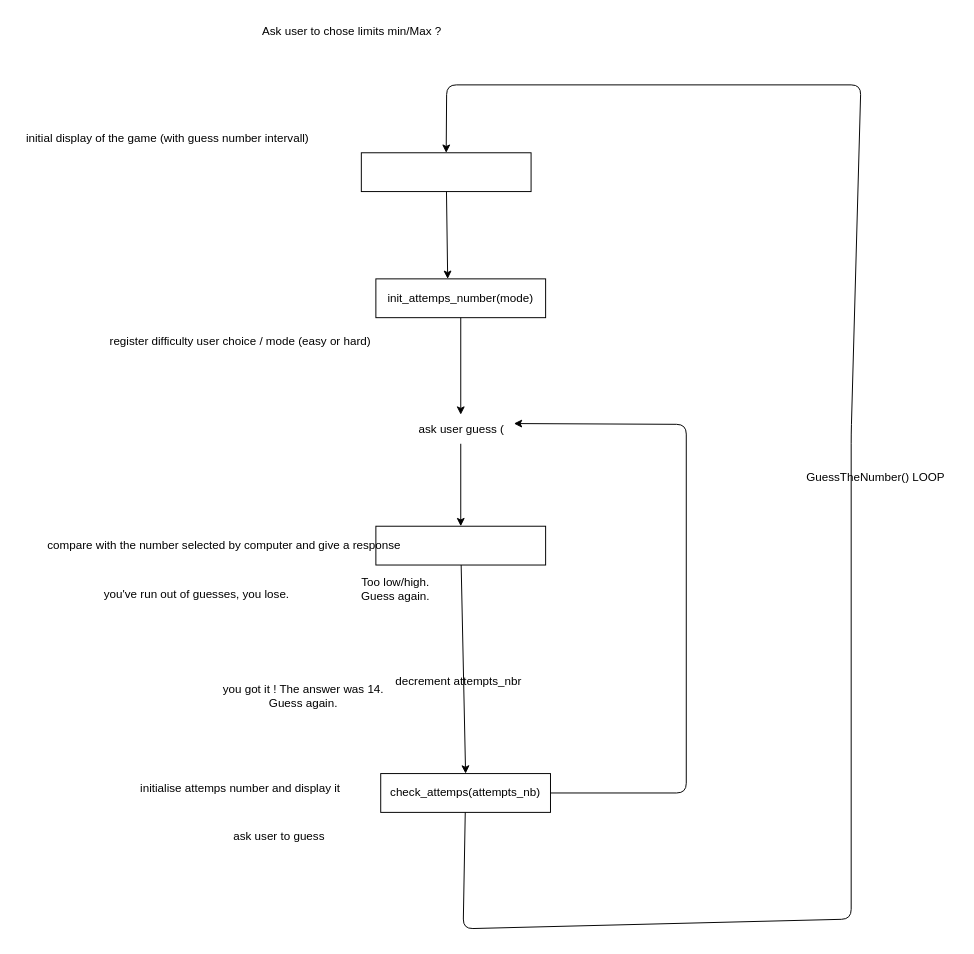
Some shapes in this 974 by 954 pixel diagram are drawn without their labels. The box of each missing label's shape, as (x1, y1, x2, y2) in pixels:
computer_chose_number(min, Max): (360, 152, 531, 192)
is_right_number(num): (375, 525, 546, 565)
